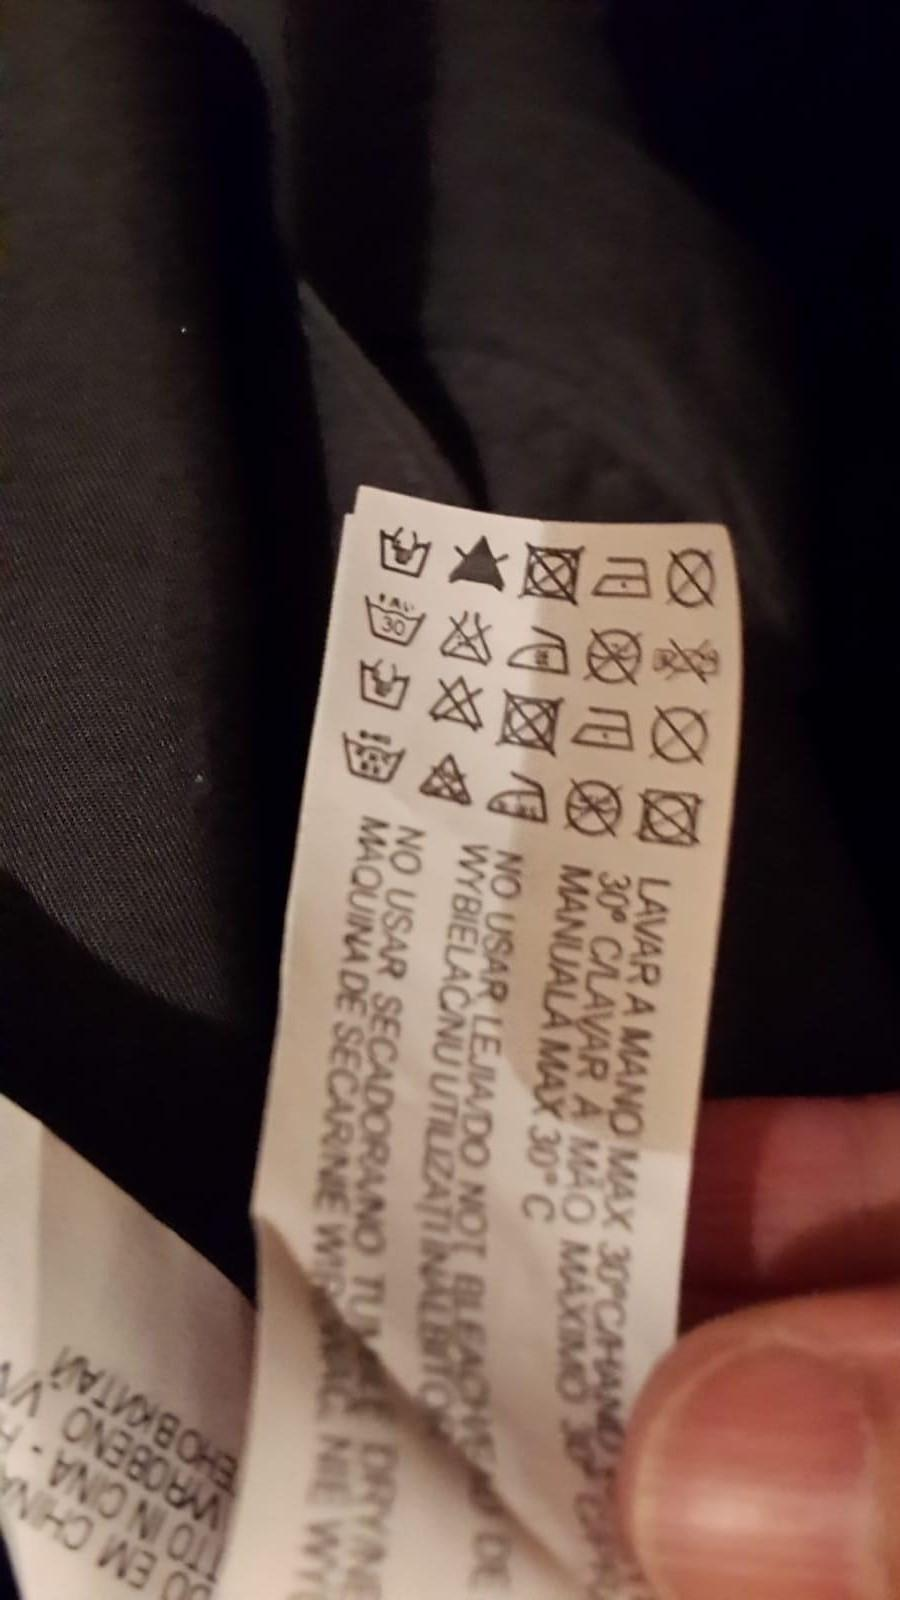30C: (362, 595, 433, 649)
DN_bleach: (444, 537, 516, 593), (429, 674, 490, 730), (422, 747, 480, 805)
DN_dry_clean: (565, 774, 638, 845), (648, 699, 719, 767), (663, 542, 724, 613), (587, 623, 643, 688)
DN_tumble_dry: (633, 779, 707, 849), (495, 689, 570, 755), (521, 535, 587, 608)
DN_wring: (653, 627, 733, 688)
hand_wash: (338, 727, 411, 791), (353, 657, 416, 715), (378, 527, 436, 579)
iron: (509, 623, 575, 677)
iron_low: (485, 771, 556, 827), (575, 698, 638, 755), (595, 551, 658, 599)
